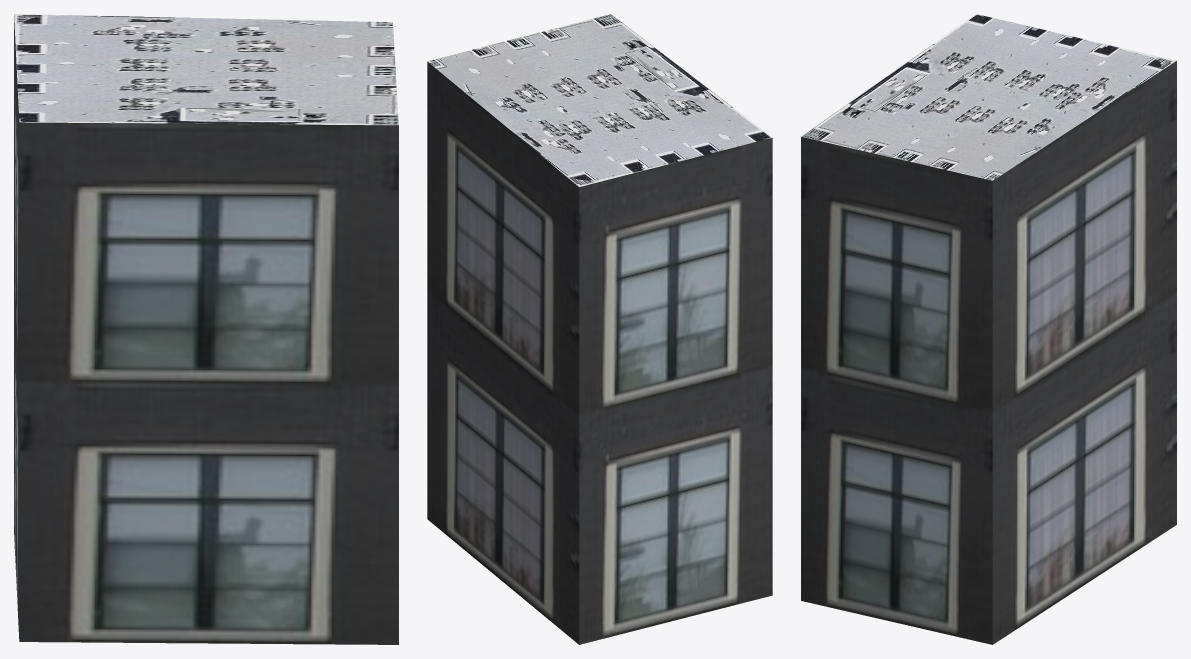
Rendered from ResTex__1006.fbx.
The picture shows the model from 3 angles, left to right: view 1: azimuth 30°, elevation 25°; view 2: azimuth 150°, elevation 25°; view 3: azimuth 270°, elevation 25°; orthographic projection. The views are drawn at different scales.
Parts seen in each view (by area): view 1: CityEngineMaterial_22_m, CityEngineMaterial_8_m; view 2: CityEngineMaterial_22_m, CityEngineMaterial_8_m; view 3: CityEngineMaterial_22_m, CityEngineMaterial_8_m.
Part boxes in pixels (x1,y1,x2,y2): CityEngineMaterial_22_m: (14, 16, 398, 644); CityEngineMaterial_8_m: (14, 14, 398, 125); CityEngineMaterial_22_m: (427, 62, 772, 644); CityEngineMaterial_8_m: (427, 14, 772, 186); CityEngineMaterial_22_m: (801, 61, 1176, 644); CityEngineMaterial_8_m: (801, 14, 1176, 180).
Bounding box in the file's own units: 4.63 × 6 × 4.4.
Materials: 2 (2 with a texture image).
